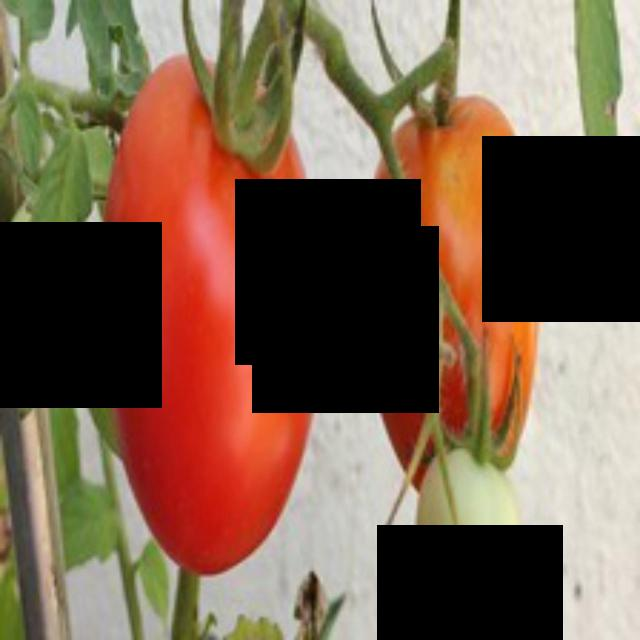tomato: (96, 40, 325, 574), (358, 77, 545, 480)
